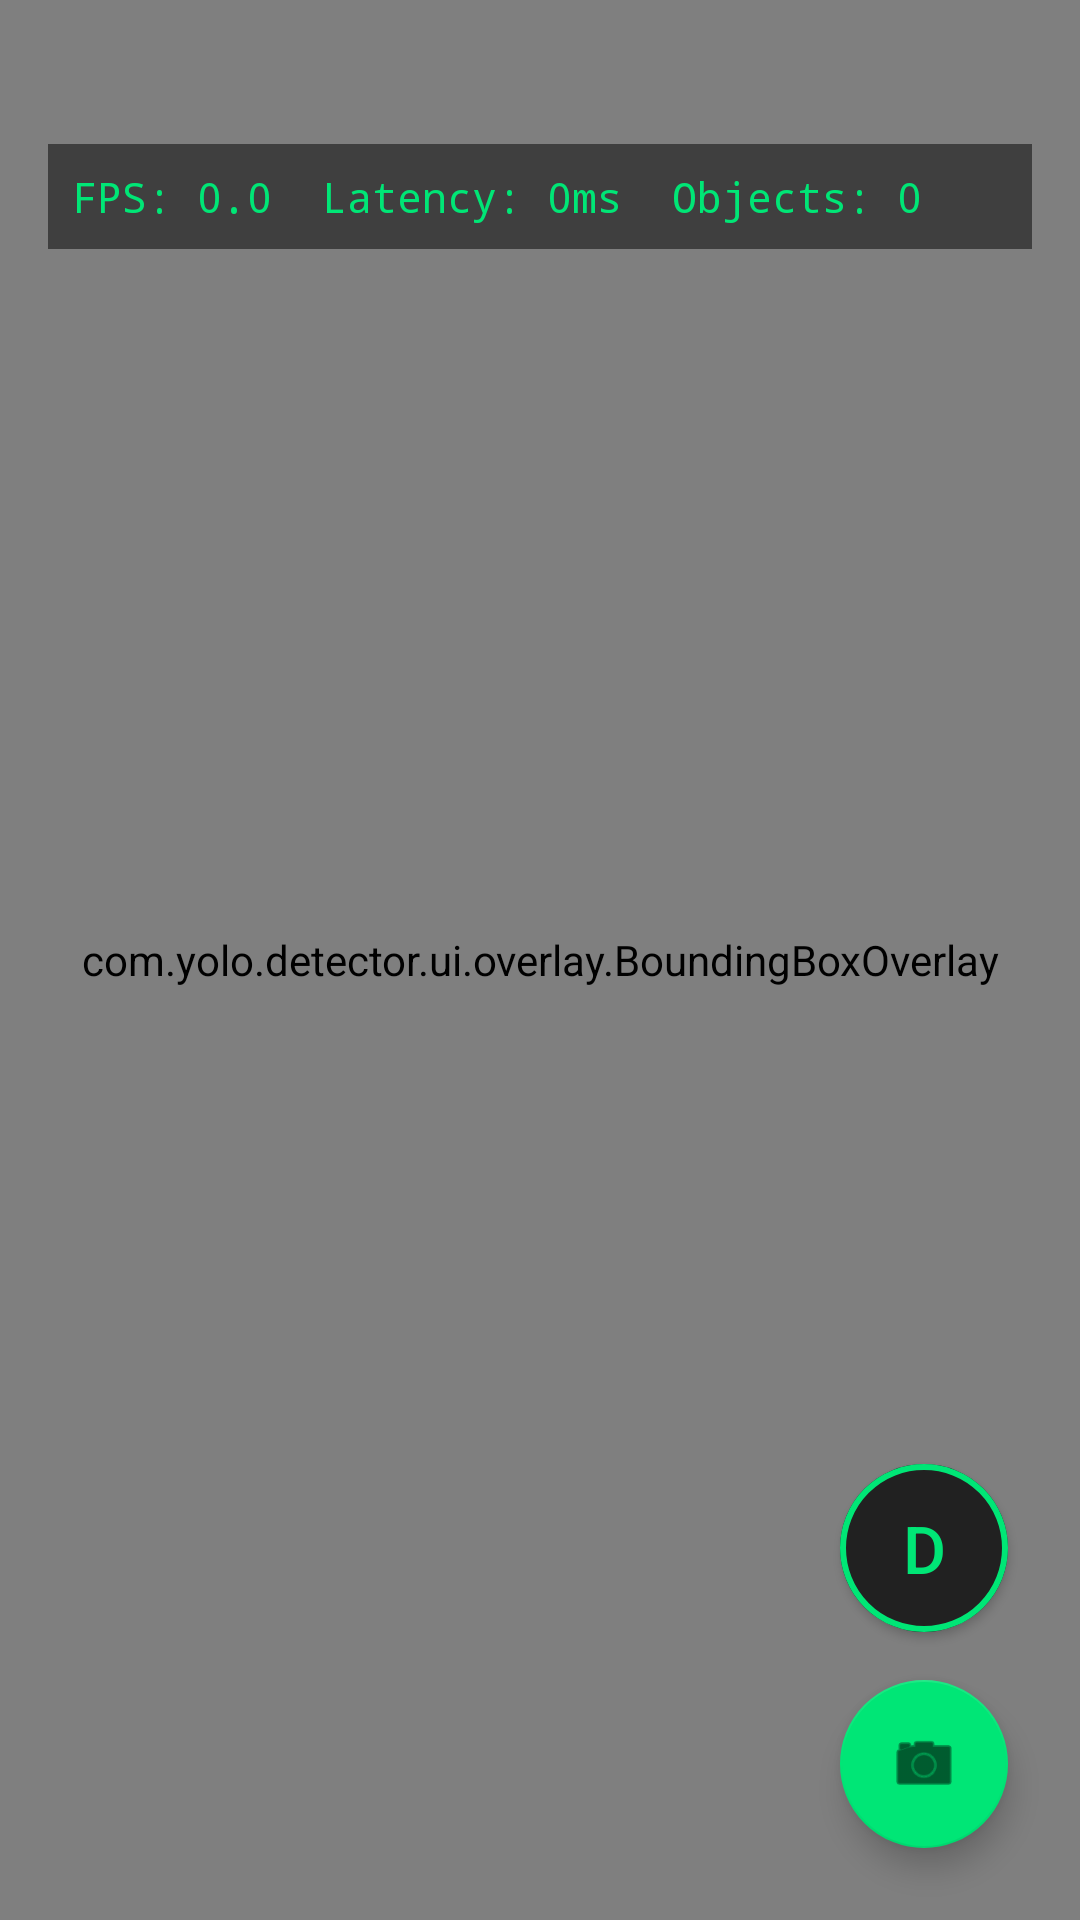

Screen size 1080 × 1920. Icon name, then its box in pixels as (x1, y1, x2, y2):
Take snapshot: (840, 1680, 1008, 1848)
